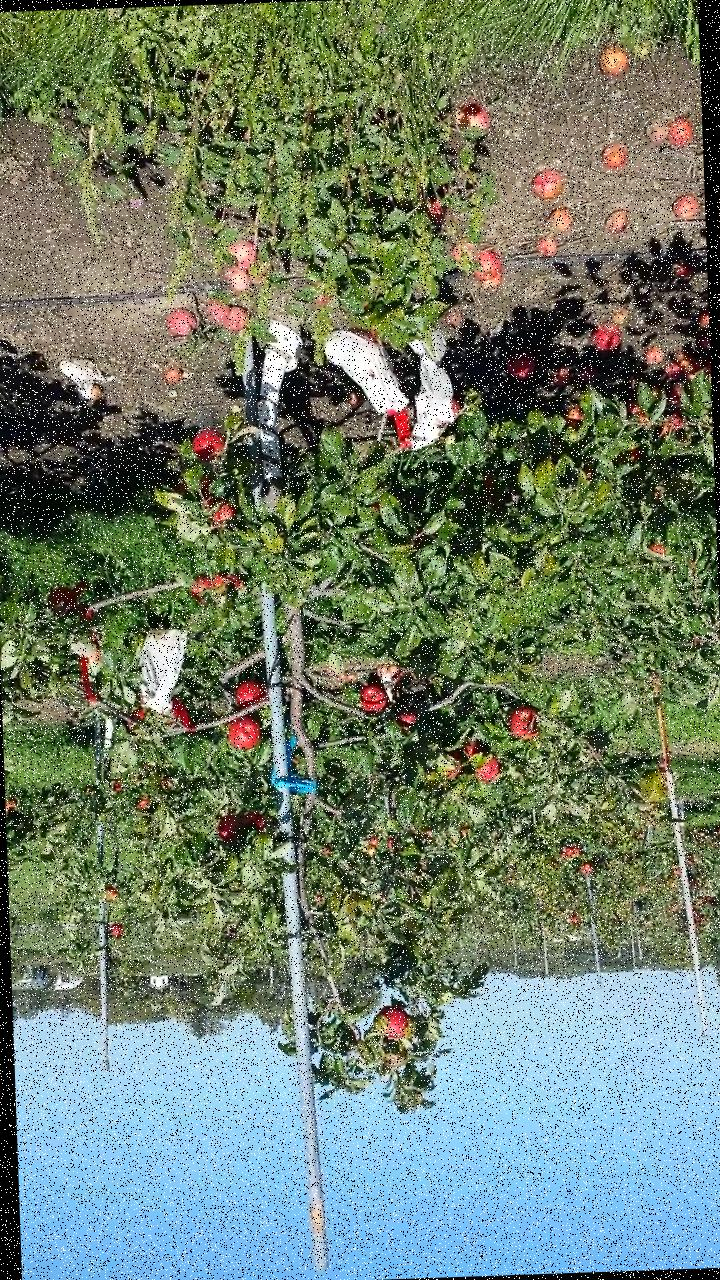Apple: (226, 714, 262, 754), (173, 478, 218, 509), (188, 428, 226, 462), (380, 1004, 408, 1042), (508, 706, 536, 742), (359, 682, 390, 713), (47, 587, 77, 618), (74, 581, 96, 622), (165, 699, 192, 731), (216, 817, 246, 844), (208, 574, 244, 596), (236, 684, 266, 710), (188, 571, 212, 601), (477, 753, 500, 783), (608, 451, 646, 469), (124, 708, 153, 731), (441, 750, 463, 780), (84, 635, 104, 668), (346, 328, 379, 347), (624, 402, 649, 426), (481, 474, 500, 505), (245, 811, 266, 834), (563, 403, 584, 426), (211, 502, 233, 523), (666, 384, 683, 410), (394, 711, 418, 728), (463, 740, 482, 760), (654, 420, 671, 441), (450, 397, 462, 422), (668, 414, 684, 432), (648, 544, 667, 557), (584, 469, 596, 483)
